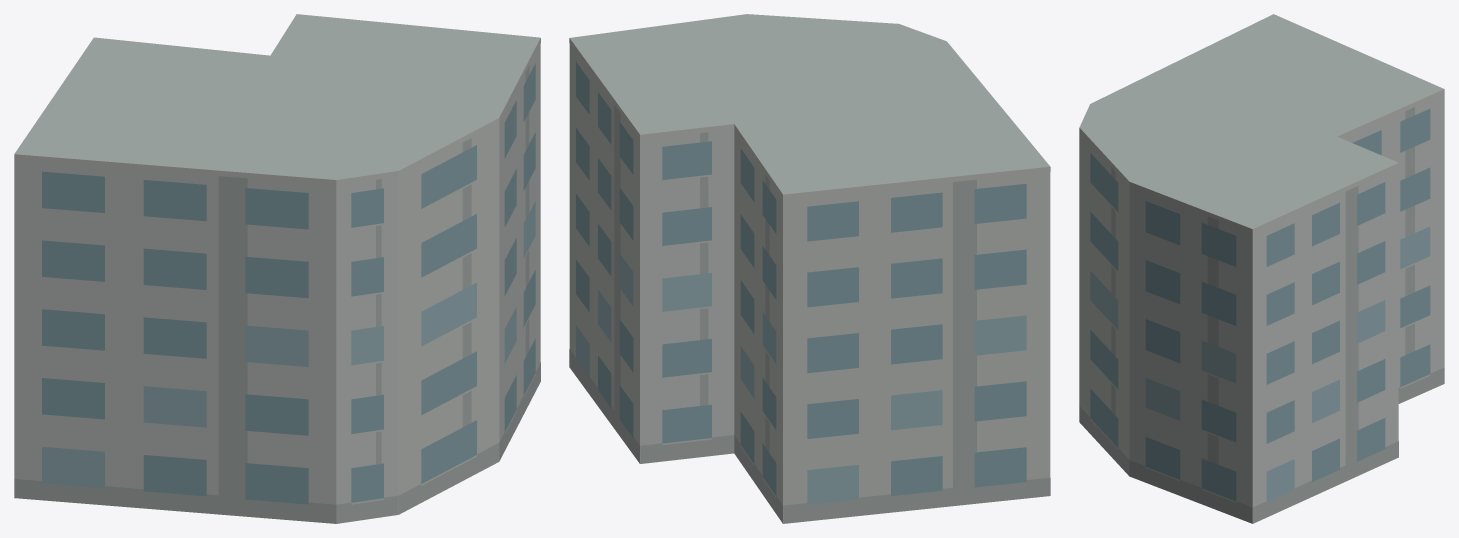
The model's file is residential-203e6827-20c5-4479-b2a1-a34d3bf5f289.glb.
The picture shows the model from 3 angles, left to right: view 1: azimuth 30°, elevation 25°; view 2: azimuth 150°, elevation 25°; view 3: azimuth 270°, elevation 25°; orthographic projection. The views are drawn at different scales.
Visible parts, largest first — view 1: residential-203e6827-20c5-4479-b2a1-a34d3bf5f289.tmp; view 2: residential-203e6827-20c5-4479-b2a1-a34d3bf5f289.tmp; view 3: residential-203e6827-20c5-4479-b2a1-a34d3bf5f289.tmp.
Boxes of the visible parts, left/top/right/bottom form: residential-203e6827-20c5-4479-b2a1-a34d3bf5f289.tmp: left=14, top=14, right=540, bottom=523; residential-203e6827-20c5-4479-b2a1-a34d3bf5f289.tmp: left=569, top=14, right=1050, bottom=523; residential-203e6827-20c5-4479-b2a1-a34d3bf5f289.tmp: left=1079, top=14, right=1444, bottom=523.
Bounding box in the file's own units: 23.88 × 15.25 × 17.13.
